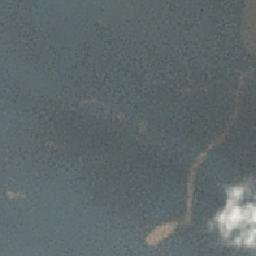cloud: (214, 177, 256, 247)
debris: (183, 154, 203, 224), (145, 219, 178, 245), (5, 190, 25, 200)
